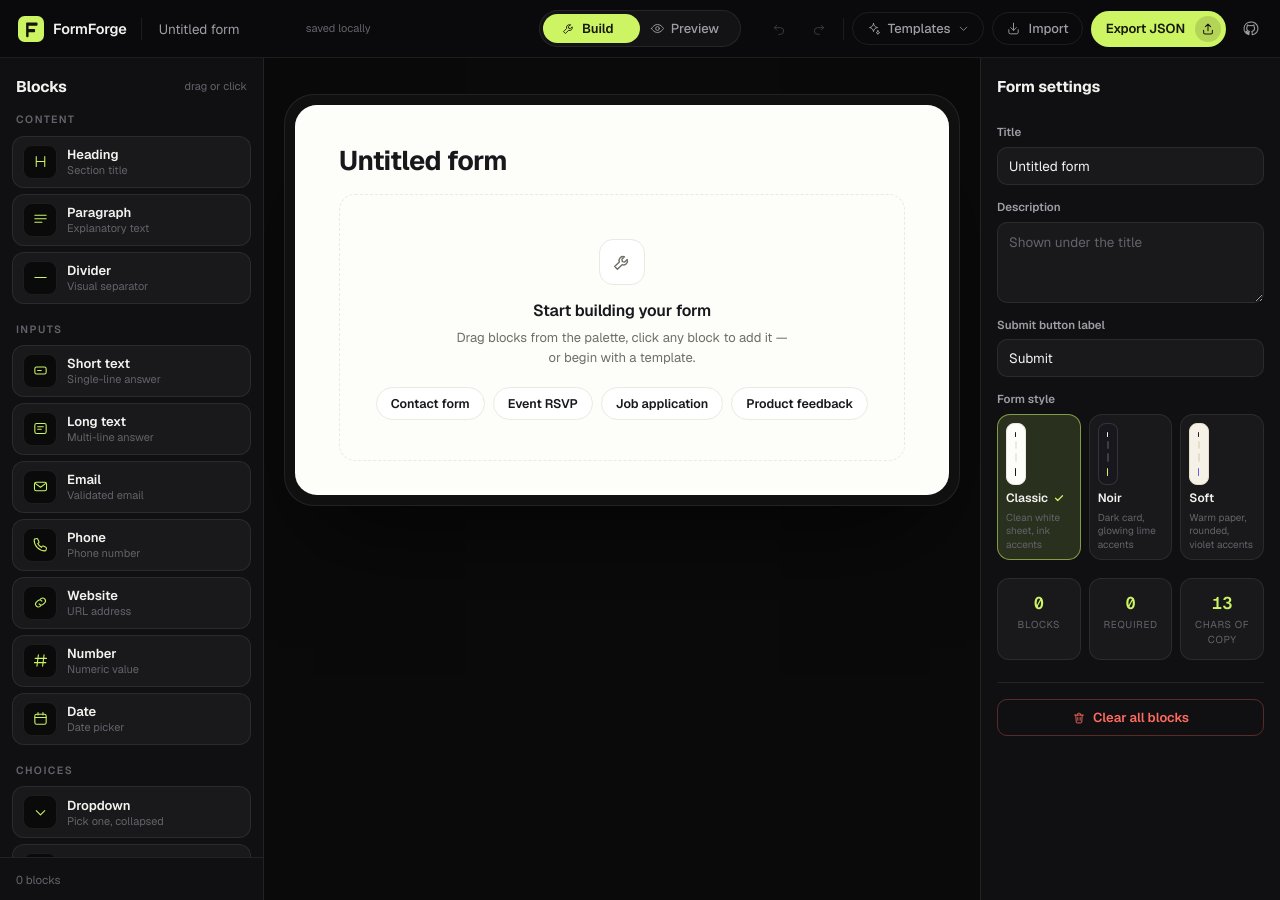
Test: template selection from Preview › renders How are we doing? after selecting the template in Preview
The width and height of the screenshot is (1280, 900).
Click the tab "Preview". click: (684,28)
box: [632,14,737,43]
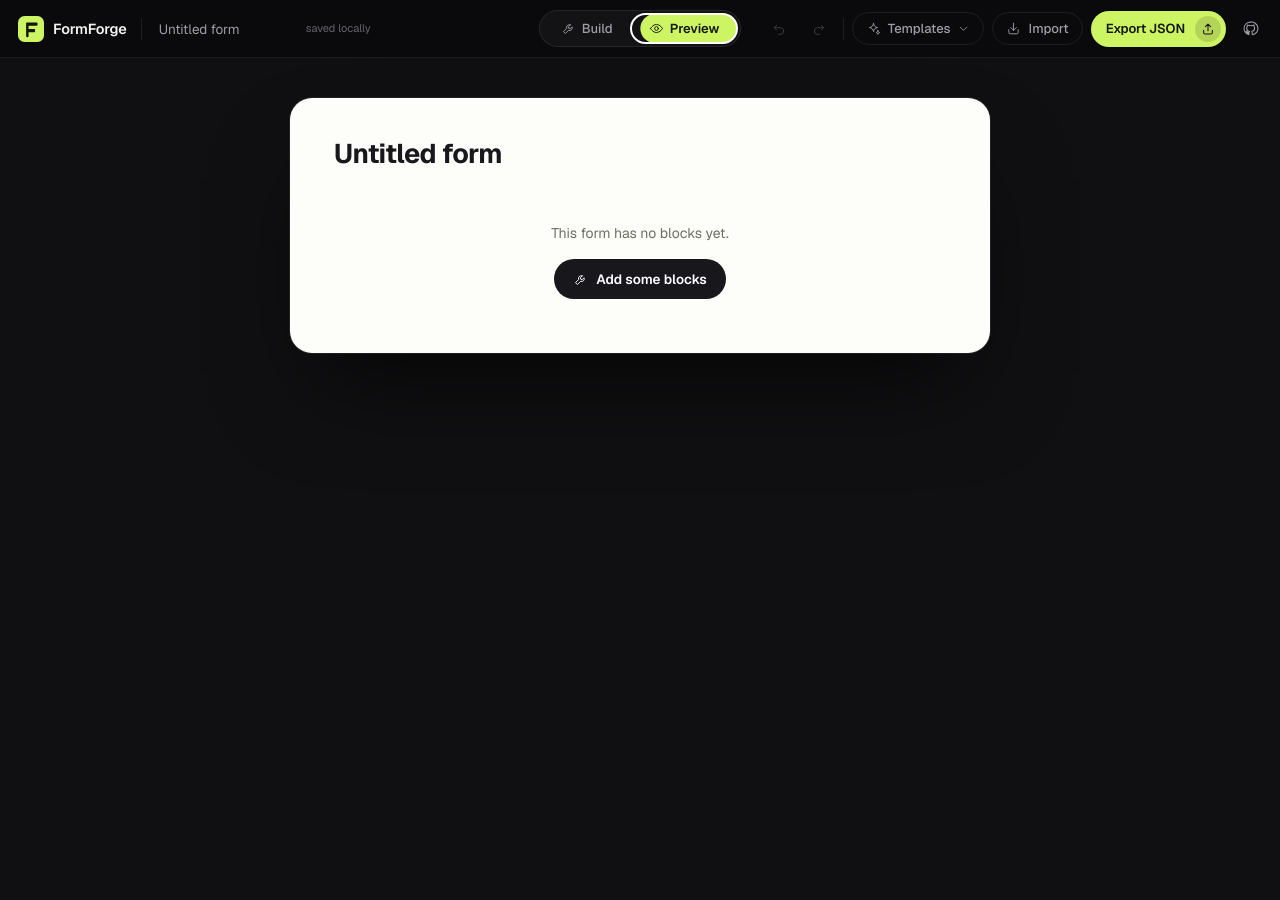
Click the button "Templates". click: (918,28)
box: [852,12,984,45]
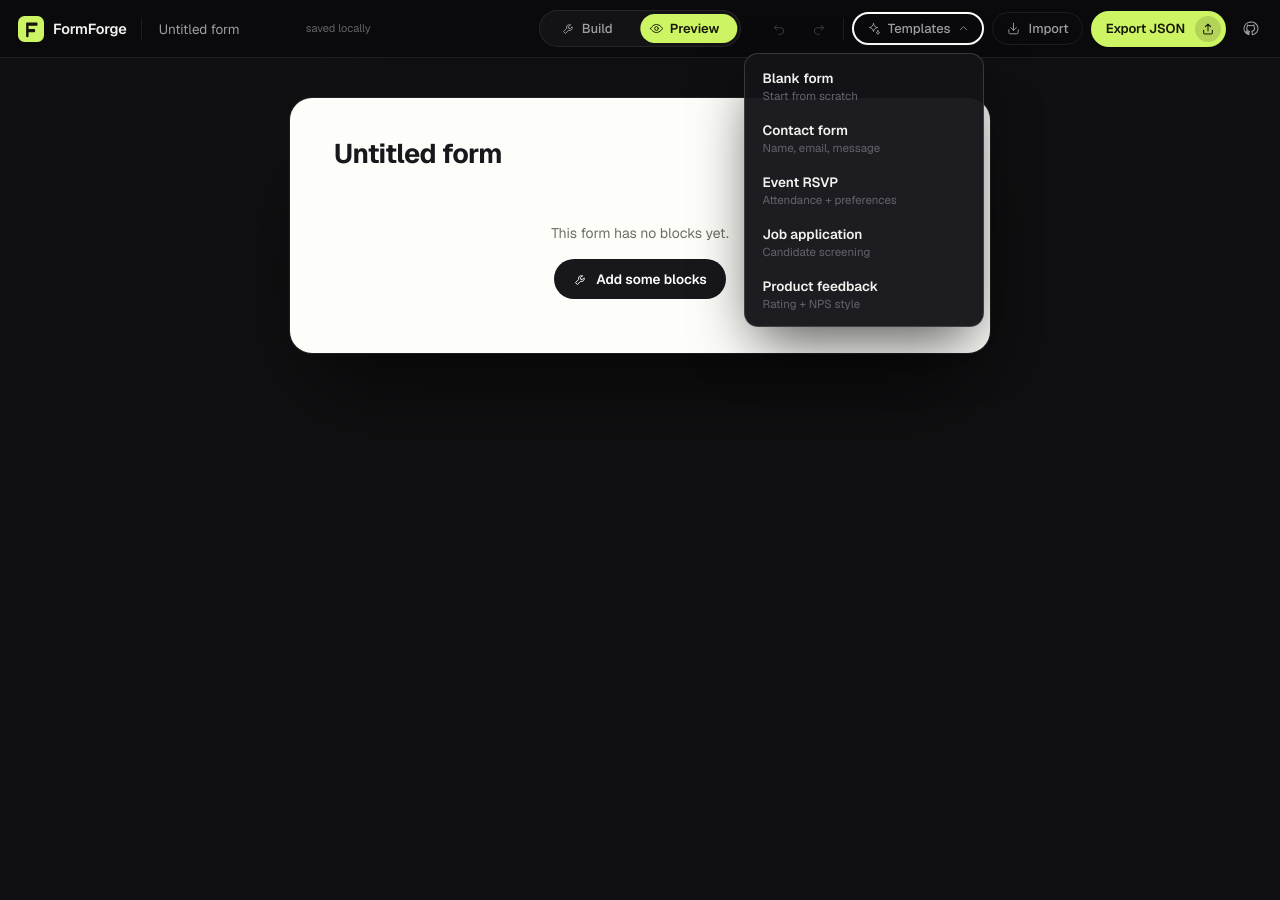
Click the menu item "Product feedback Rating + NPS style". click: (864,294)
box: [752,268,978,320]
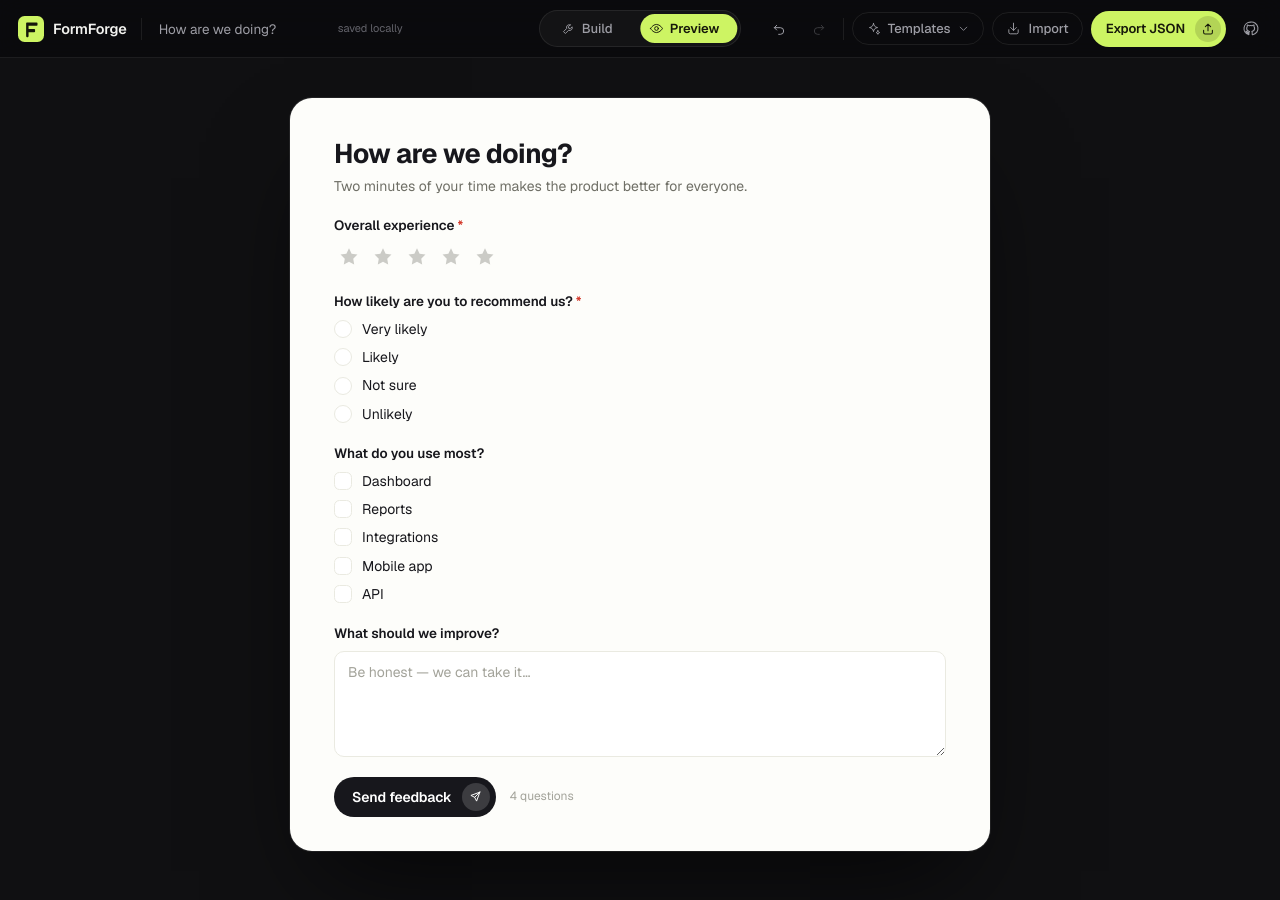
Now the heading "How are we doing?" is shown, box [334,136,572,171]
Now the element named "What do you use most?" is shown, box [334,472,438,603]
